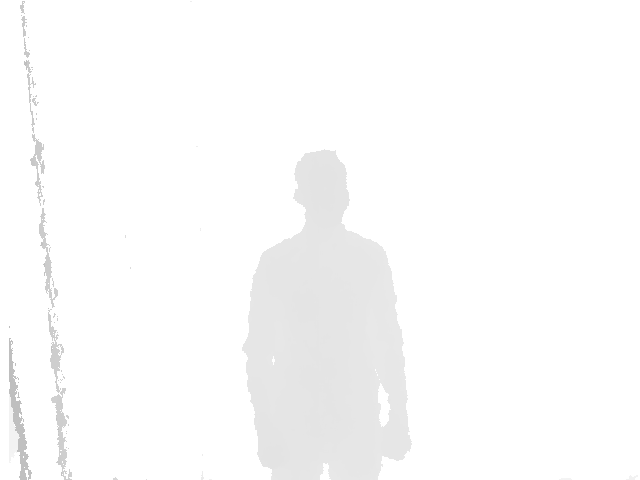head: (294, 150, 349, 223)
person: (241, 150, 413, 480)
